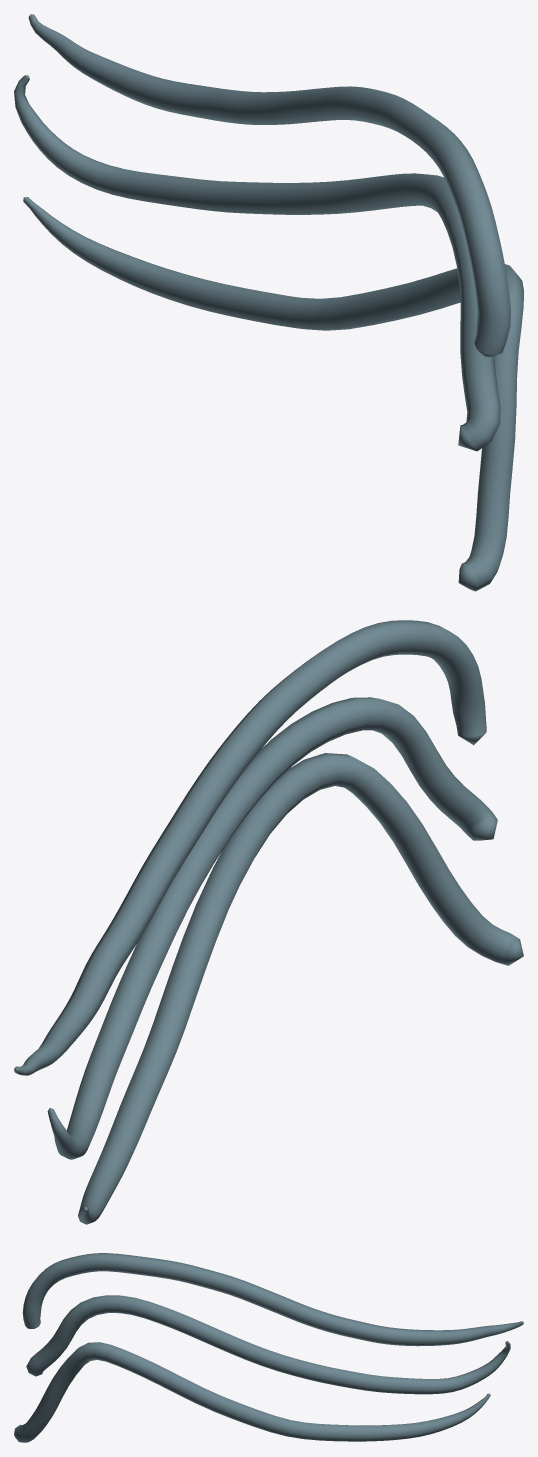
The picture shows the model from 3 angles, top to bottom: view 1: azimuth 30°, elevation 25°; view 2: azimuth 150°, elevation 25°; view 3: azimuth 270°, elevation 25°; orthographic projection. The views are drawn at different scales.
Parts seen in each view (by area): view 1: brush_NeonPulse_g0_b0; view 2: brush_NeonPulse_g0_b0; view 3: brush_NeonPulse_g0_b0.
Boxes of the visible parts, <box> form: brush_NeonPulse_g0_b0: <box>14,14,523,591</box>; brush_NeonPulse_g0_b0: <box>14,620,523,1224</box>; brush_NeonPulse_g0_b0: <box>14,1253,523,1442</box>.
Bounding box in the file's own units: 0.8313 × 1.83 × 4.18.
